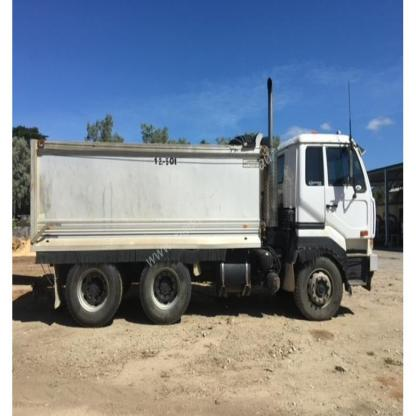dump_truck: (28, 111, 378, 341)
